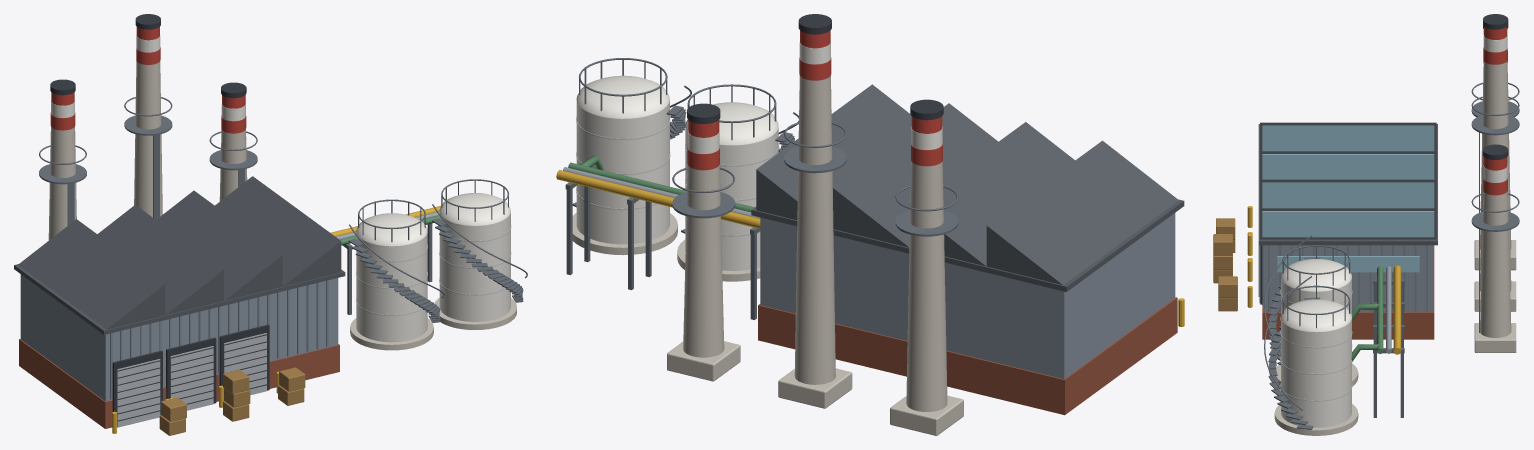
Rendered from industry.glb.
The picture shows the model from 3 angles, left to right: view 1: azimuth 30°, elevation 25°; view 2: azimuth 150°, elevation 25°; view 3: azimuth 270°, elevation 25°; orthographic projection. The views are drawn at different scales.
Parts seen in each view (by area): view 1: industry-body; view 2: industry-body; view 3: industry-body.
Boxes of the visible parts, box(x1,y1,x2,y2) form: industry-body: box(14, 14, 527, 435); industry-body: box(556, 14, 1184, 435); industry-body: box(1213, 14, 1519, 435).
Bounding box in the file's own units: 20.82 × 12.76 × 12.48.
